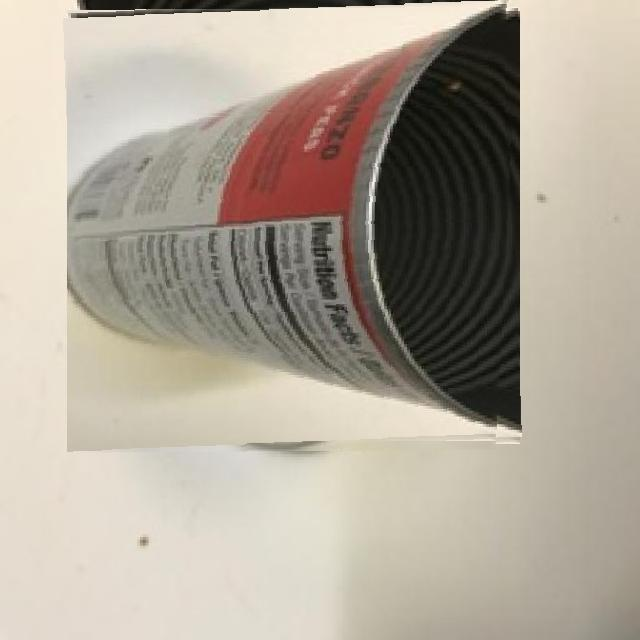recyclable: (67, 1, 519, 453)
